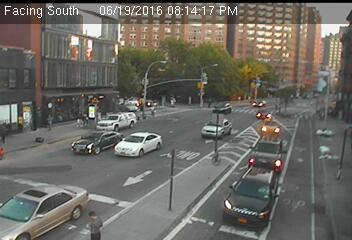neg: (152, 108, 177, 142), (193, 102, 216, 133)
pos: (80, 207, 104, 239), (42, 111, 57, 131)
